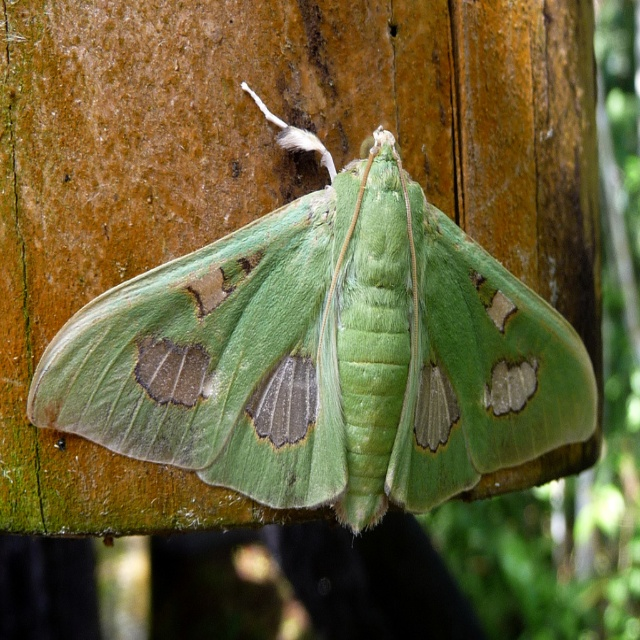Butterfly: (59, 81, 590, 528)
